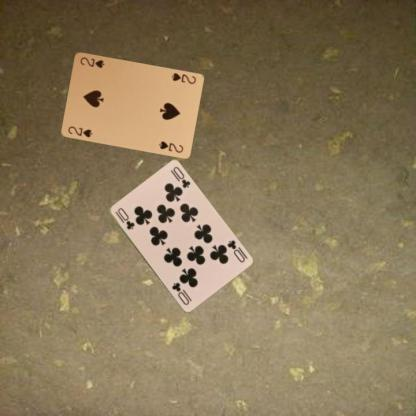10c: (112, 205, 136, 231), (224, 238, 246, 264)
2s: (169, 70, 197, 86), (65, 124, 93, 138)
